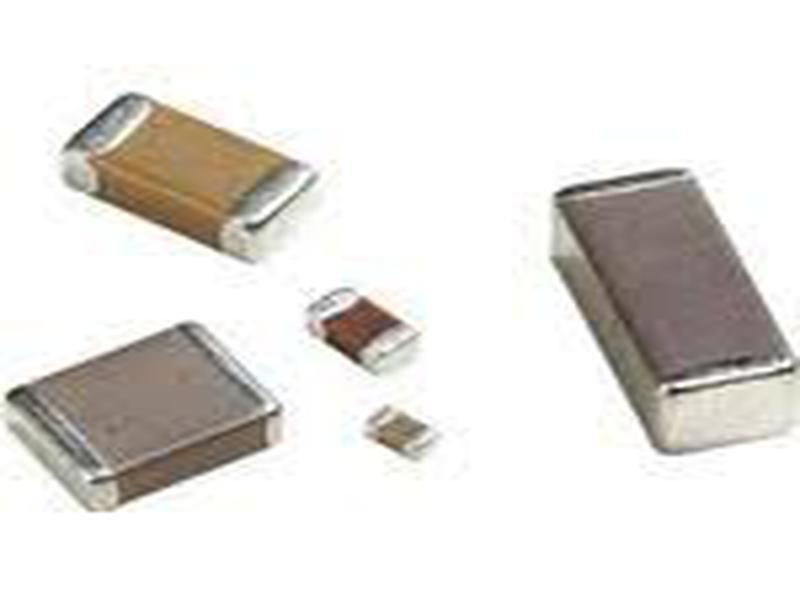SMD capacitor: (65, 84, 329, 266), (306, 289, 426, 374)
